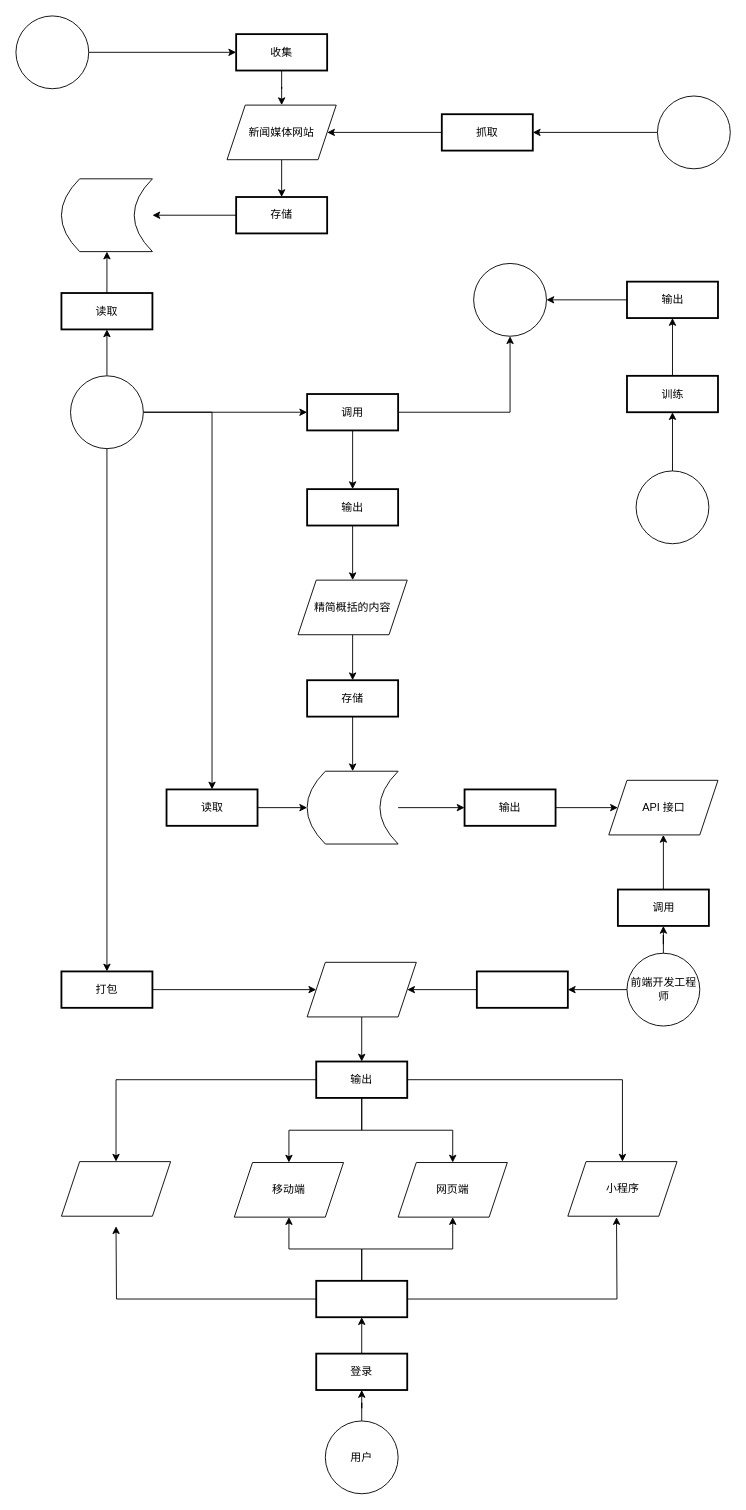
The diagram is 746 pixels wide and 1510 high, and some of its shapes have lost their labels. Here are the shapes that lost their labels. From the top down, the centre of each, then its label:
At pixel 52 52: "产品经理".
At pixel 693 132: "爬虫工程师".
At pixel 106 215: "Mysql数据库".
At pixel 509 299: "大模型".
At pixel 106 412: "后端开发工程师".
At pixel 672 507: "算法工程师".
At pixel 352 807: "MeiliSearch数据库".
At pixel 361 989: "自适应 新闻阅读系统".
At pixel 521 989: "开发".
At pixel 116 1188: "app".
At pixel 361 1298: "阅读".
